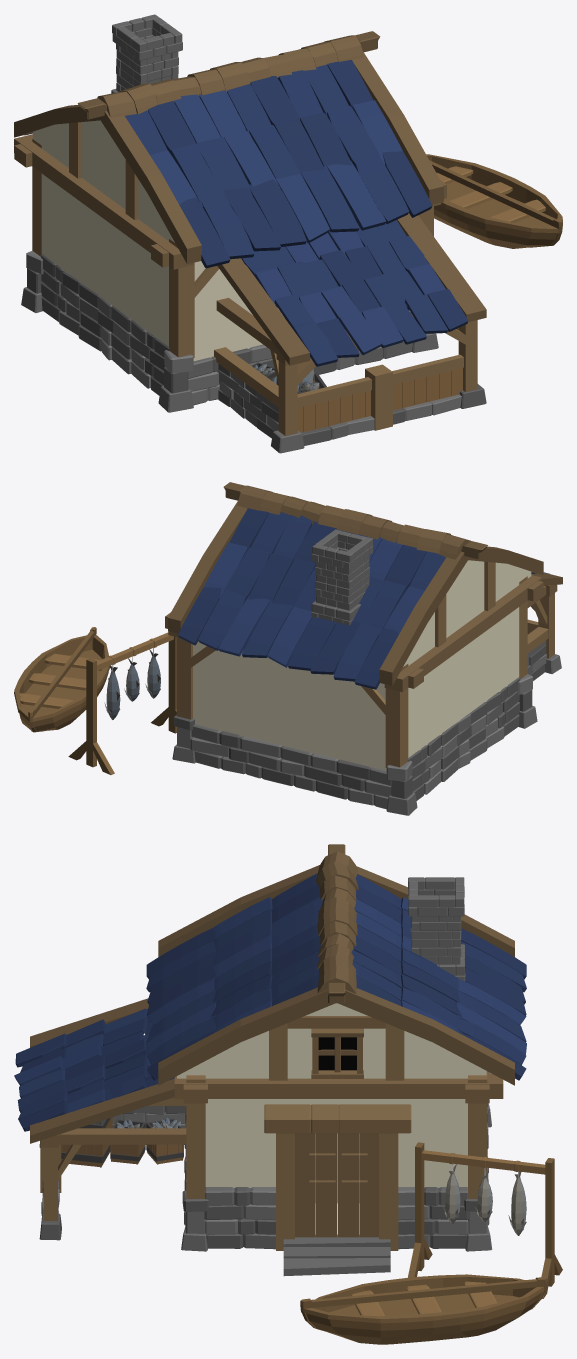
File: FisherHouse (2).fbx
The picture shows the model from 3 angles, top to bottom: view 1: azimuth 30°, elevation 25°; view 2: azimuth 150°, elevation 25°; view 3: azimuth 270°, elevation 25°; orthographic projection. The views are drawn at different scales.
Visible parts, largest first — view 1: Cube.079, Cube.099, Cube.014, Cube.101, Cube.098, Cube.195, Cube.044, Cube.047, Cube.010, Cube.045, Cube.009, Cube.008 (+71 smaller); view 2: Cube.045, Cube.079, Cube.099, Cube.014, Cube.195, Cube.044, Cube.098, Cube.047, Cube.012, Cube.167, Cube.168, Cube.017 (+51 smaller); view 3: Cube.079, Cube.099, Cube.014, Cube.175, Cube.098, Cube.047, Cube.195, Cube.061, Cube.101, Cube.044, Cube.012, Cube.065 (+56 smaller).
Boxes of the visible parts, left/top/right/bottom form: Cube.079: left=42, top=174, right=168, bottom=348; Cube.099: left=14, top=49, right=443, bottom=264; Cube.014: left=426, top=154, right=562, bottom=248; Cube.101: left=217, top=213, right=486, bottom=365; Cube.098: left=33, top=120, right=174, bottom=242; Cube.195: left=111, top=14, right=182, bottom=93; Cube.044: left=32, top=138, right=433, bottom=357; Cube.047: left=14, top=134, right=441, bottom=269; Cube.010: left=297, top=368, right=462, bottom=432; Cube.045: left=193, top=261, right=282, bottom=361; Cube.009: left=270, top=320, right=477, bottom=435; Cube.008: left=297, top=354, right=463, bottom=407; Cube.045: left=193, top=641, right=386, bottom=770; Cube.079: left=408, top=607, right=519, bottom=759; Cube.099: left=168, top=500, right=543, bottom=685; Cube.014: left=14, top=627, right=110, bottom=732; Cube.195: left=311, top=529, right=373, bottom=625; Cube.044: left=176, top=576, right=527, bottom=767; Cube.098: left=403, top=560, right=531, bottom=666; Cube.047: left=168, top=575, right=541, bottom=691; Cube.012: left=68, top=636, right=176, bottom=774; Cube.167: left=242, top=600, right=292, bottom=657; Cube.168: left=198, top=589, right=245, bottom=650; Cube.017: left=20, top=653, right=101, bottom=708; Cube.079: left=205, top=1099, right=467, bottom=1203; Cube.099: left=158, top=865, right=514, bottom=1085; Cube.014: left=300, top=1274, right=546, bottom=1344; Cube.175: left=295, top=1133, right=378, bottom=1237; Cube.098: left=177, top=1003, right=486, bottom=1078; Cube.047: left=174, top=1073, right=503, bottom=1098; Cube.195: left=408, top=877, right=465, bottom=981; Cube.061: left=276, top=1133, right=398, bottom=1250; Cube.101: left=30, top=998, right=174, bottom=1143; Cube.044: left=186, top=1072, right=487, bottom=1198; Cube.012: left=408, top=1142, right=562, bottom=1298; Cube.065: left=338, top=1104, right=411, bottom=1133.
Size of the model in its own units: 346 by 184 by 329.
